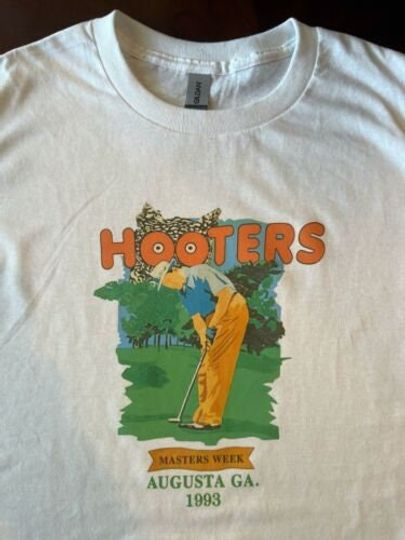design: (90, 198, 327, 508)
